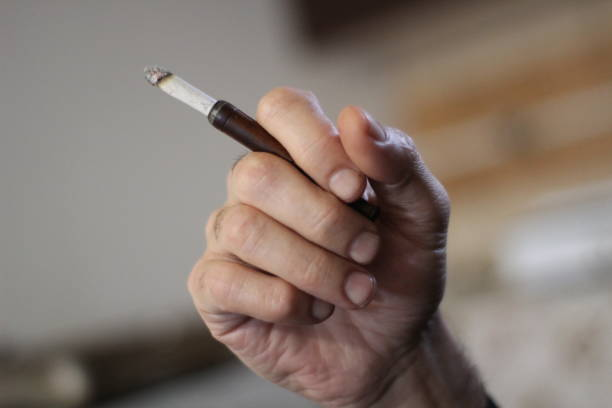cigarette: (141, 61, 305, 167)
